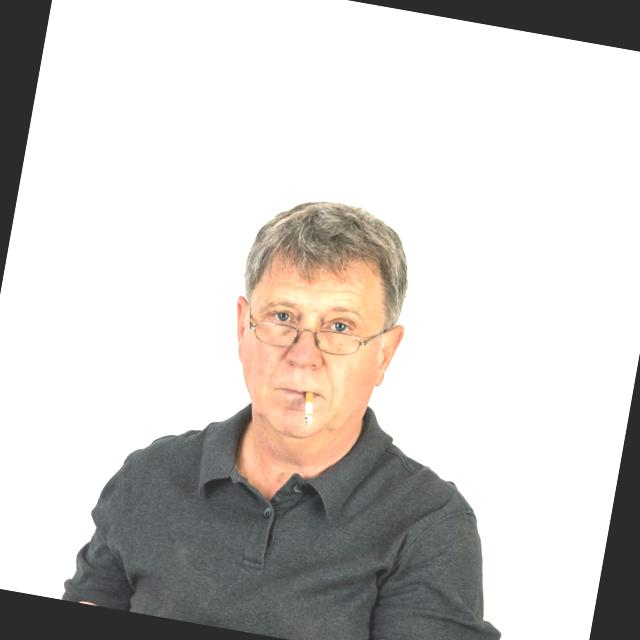smoke: (299, 388, 320, 426)
